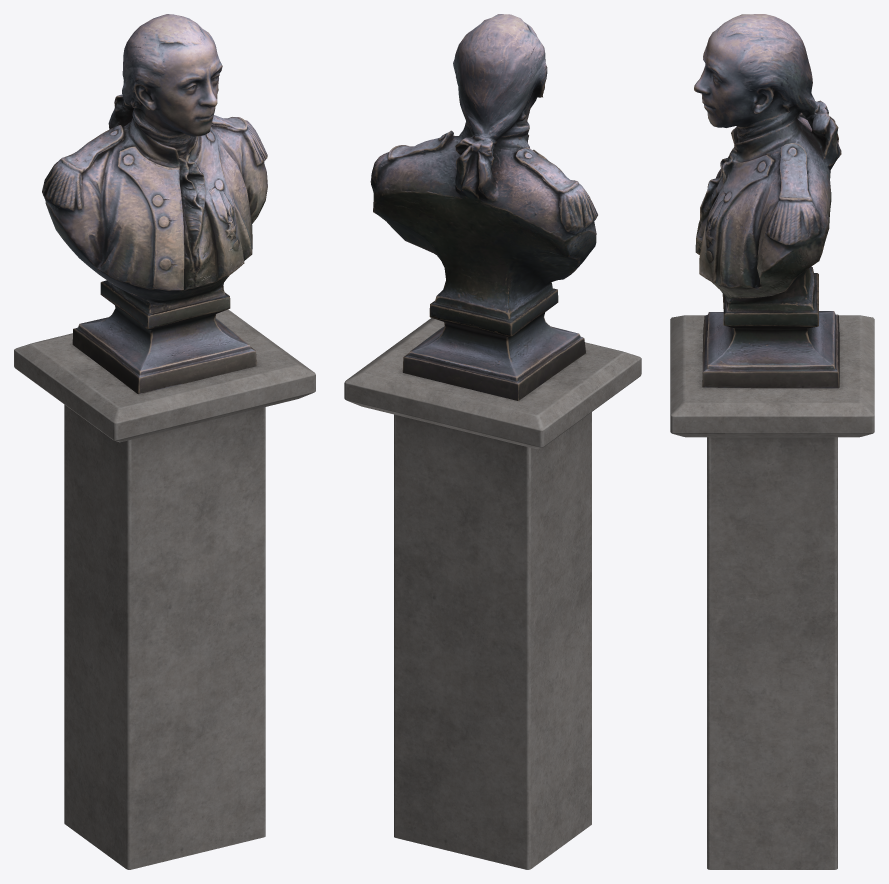
The model's file is JohnPaulJones.glb.
3 views of the same model, side by side, from view 1: azimuth 30°, elevation 25°; view 2: azimuth 150°, elevation 25°; view 3: azimuth 270°, elevation 25° (orthographic).
Visible parts, largest first — view 1: SM_Base, SM_Bust; view 2: SM_Base, SM_Bust; view 3: SM_Base, SM_Bust.
Part boxes in pixels (box(x1,y1,x2,y2)): SM_Base: box(14, 309, 315, 869); SM_Bust: box(42, 14, 267, 394); SM_Base: box(344, 318, 641, 869); SM_Bust: box(370, 14, 597, 400); SM_Base: box(670, 315, 874, 869); SM_Bust: box(694, 14, 841, 388).
Bounding box in the file's own units: 0.5169 × 1.84 × 0.4156.
Materials: 1 (1 with a texture image).
